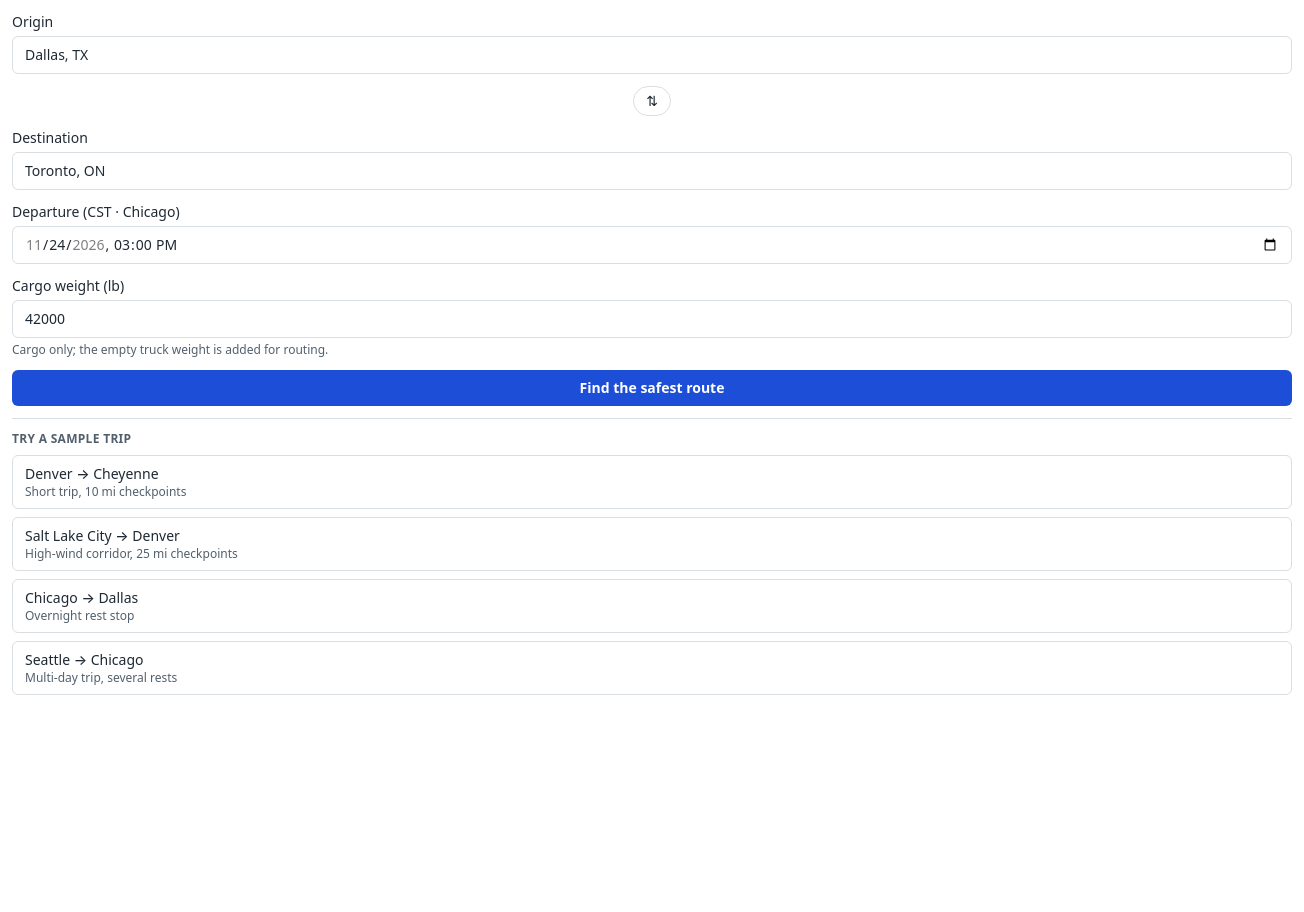
submitting › rejects a place outside the US
Click the button "Find the safest route": click(652, 388) [12,370,1292,406]
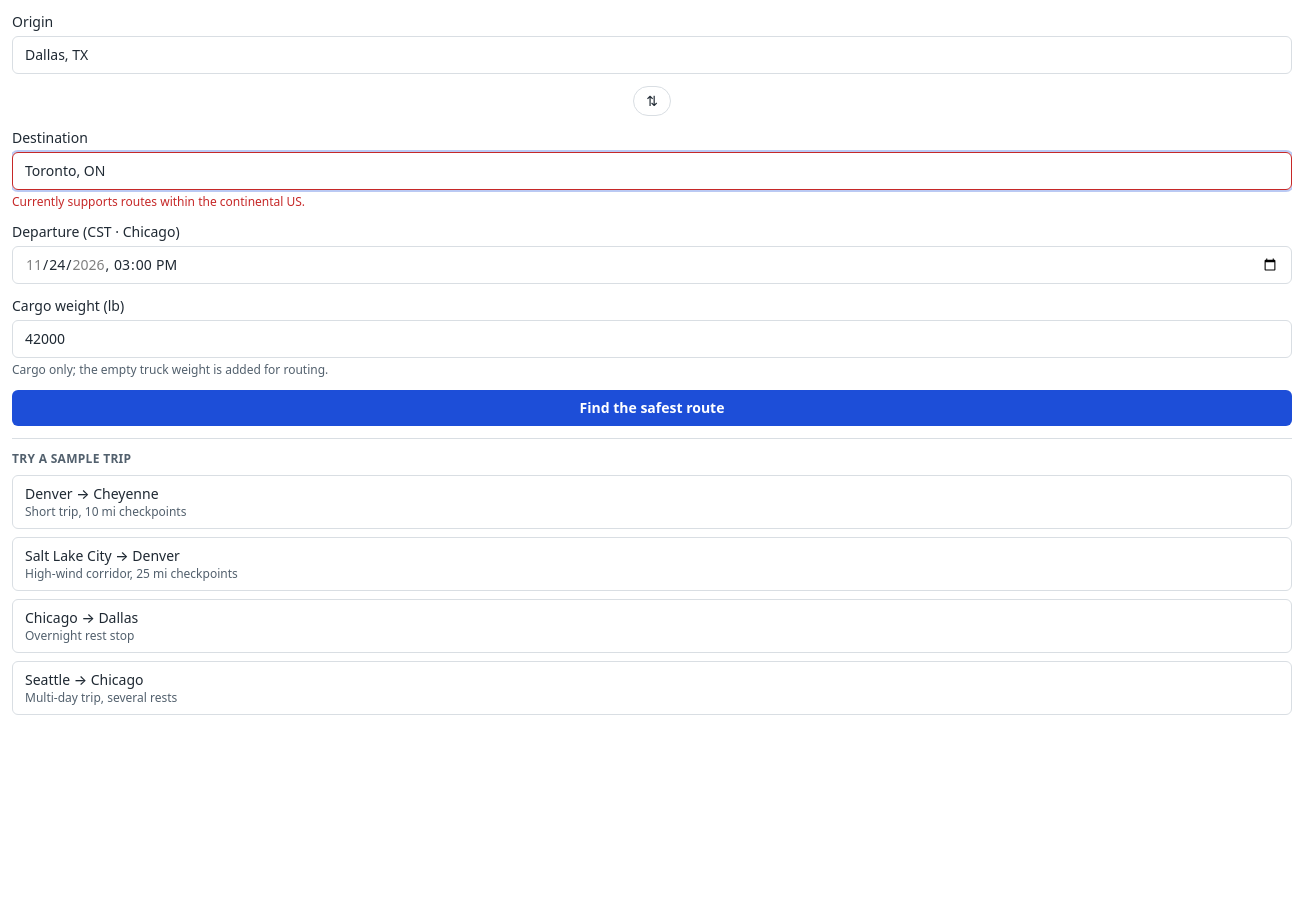
Expected: the message shows "continental US", [12,193,305,210]
